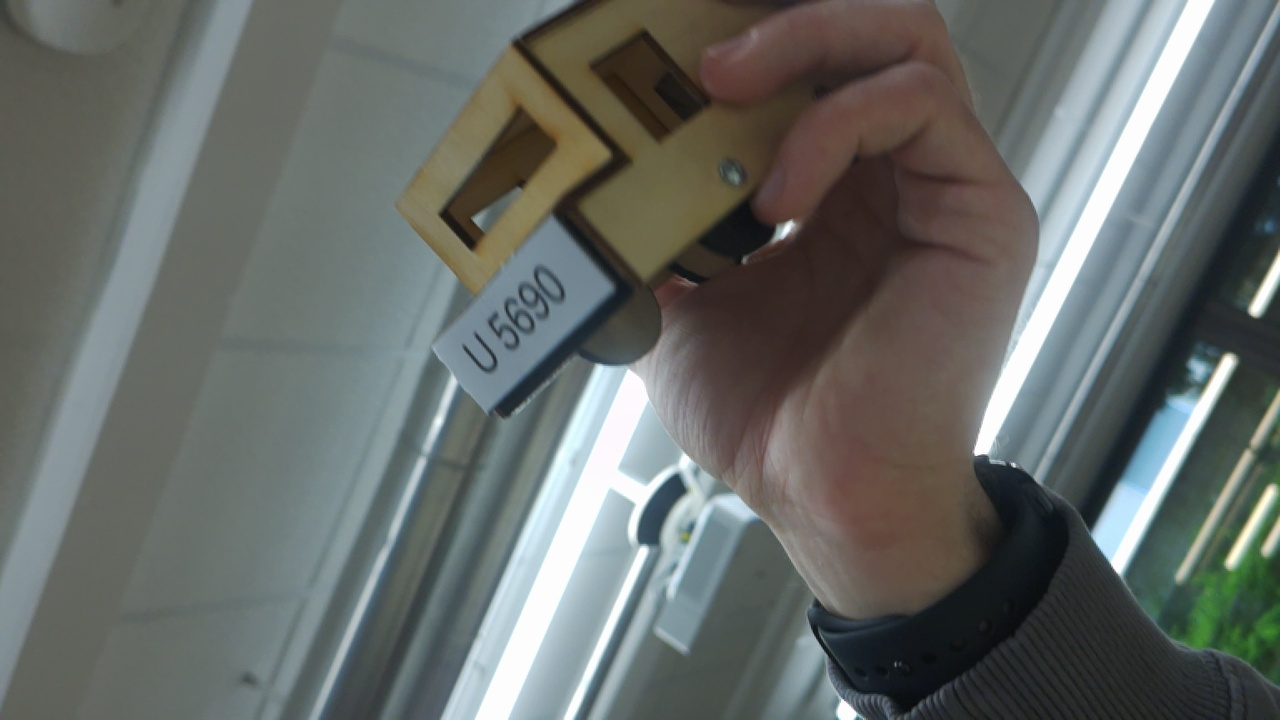license_plate: (426, 207, 632, 424)
